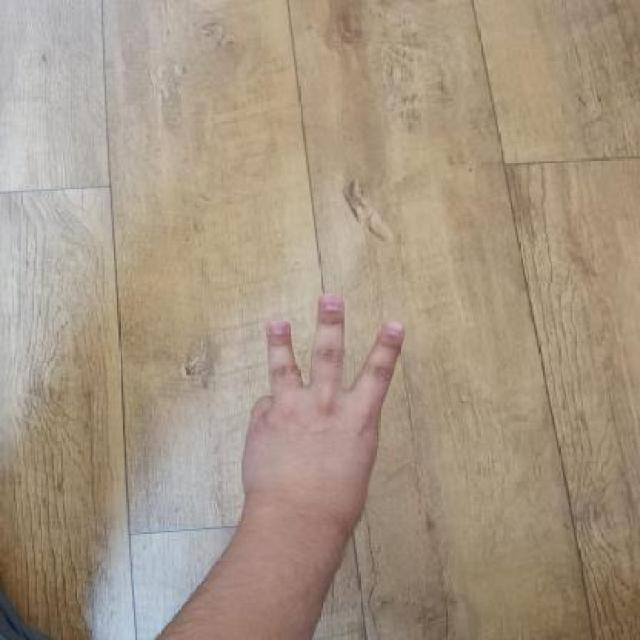W: (237, 286, 415, 528)
